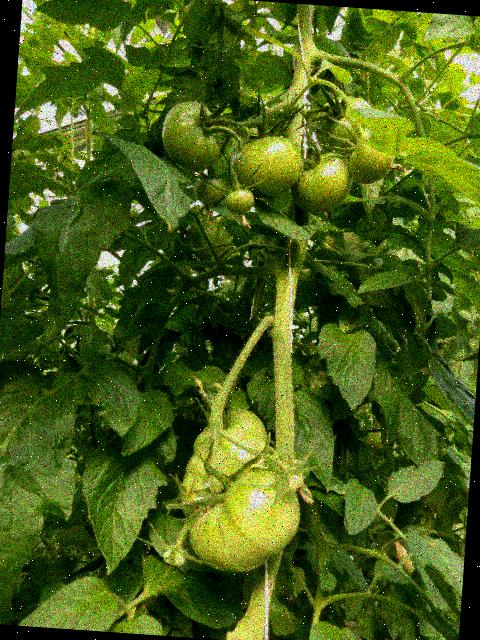b_green: (175, 424, 306, 576), (223, 125, 305, 201), (158, 98, 224, 174), (288, 149, 354, 215), (193, 405, 270, 460), (312, 94, 375, 161), (178, 219, 233, 275), (346, 135, 396, 186), (193, 175, 228, 206), (223, 186, 255, 215), (278, 467, 304, 494), (163, 545, 186, 566), (10, 148, 35, 163)
